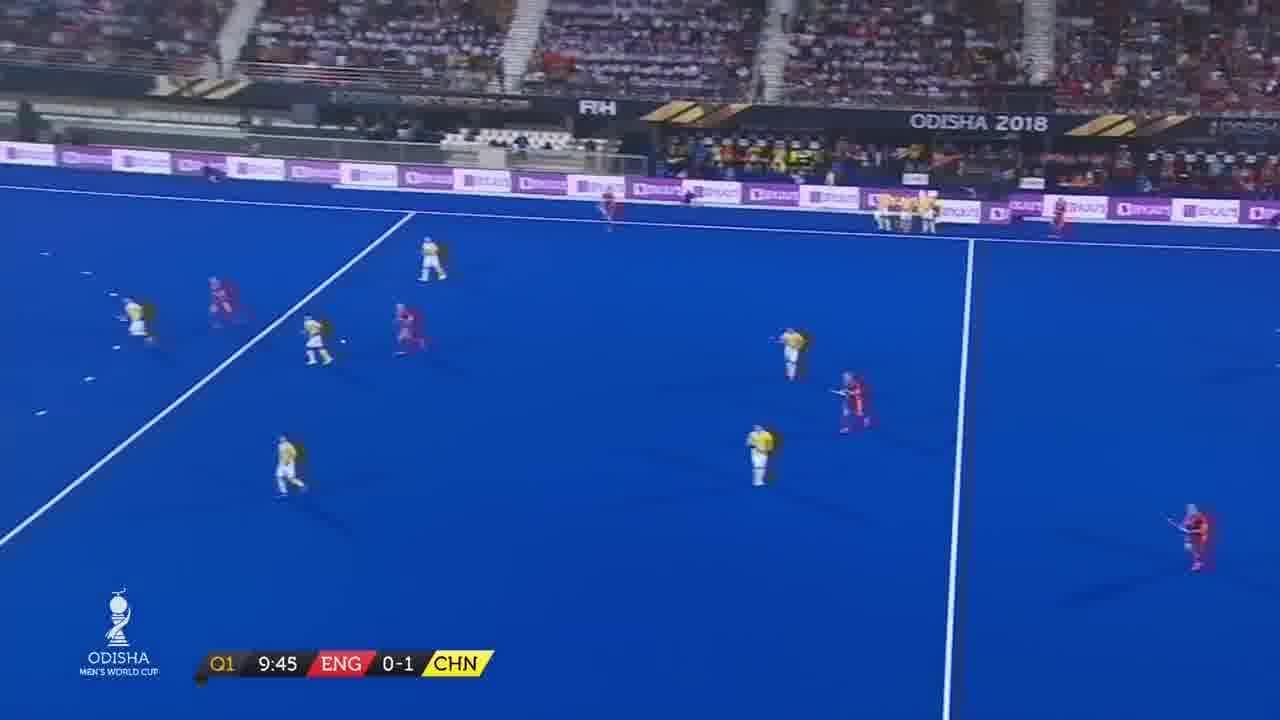ball: (340, 336, 351, 350)
